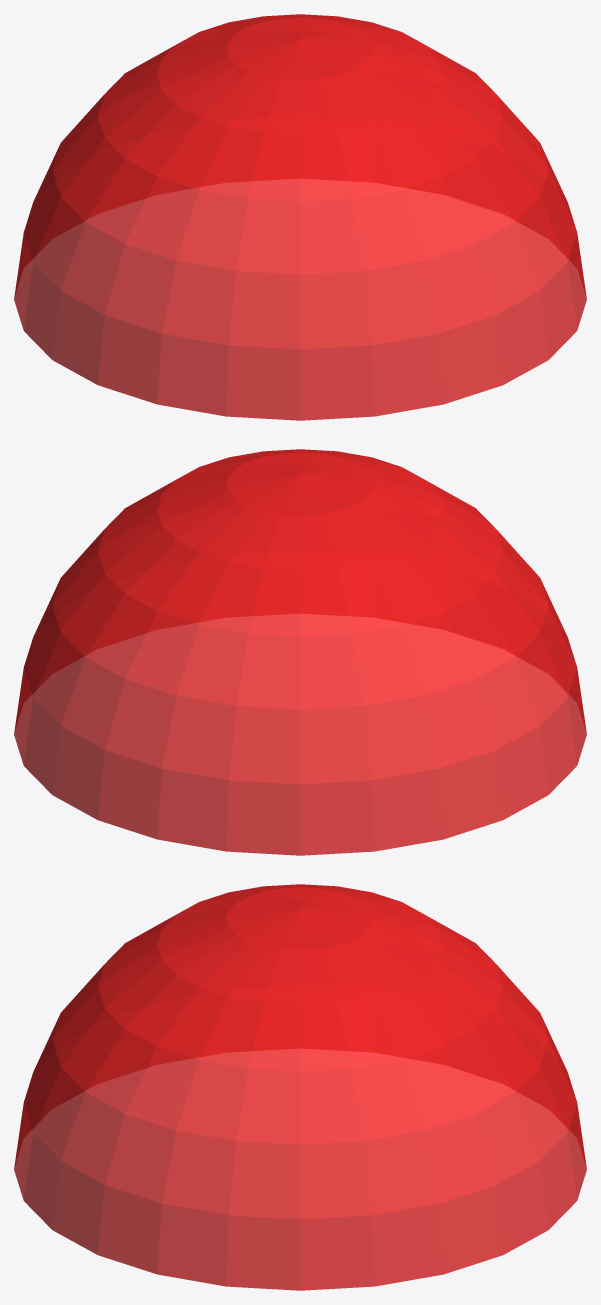
File: red_75_opacity_dome.dae
3 renders of one model, top to bottom at view 1: azimuth 30°, elevation 25°; view 2: azimuth 150°, elevation 25°; view 3: azimuth 270°, elevation 25°, orthographic.
Visible parts, largest first — view 1: Component1; view 2: Component1; view 3: Component1.
Boxes of the visible parts, bbox=[...] form: Component1: bbox=[14, 14, 586, 420]; Component1: bbox=[14, 449, 586, 855]; Component1: bbox=[14, 884, 586, 1290].
Bounding box in the file's own units: 245371 × 245371 × 132150.
